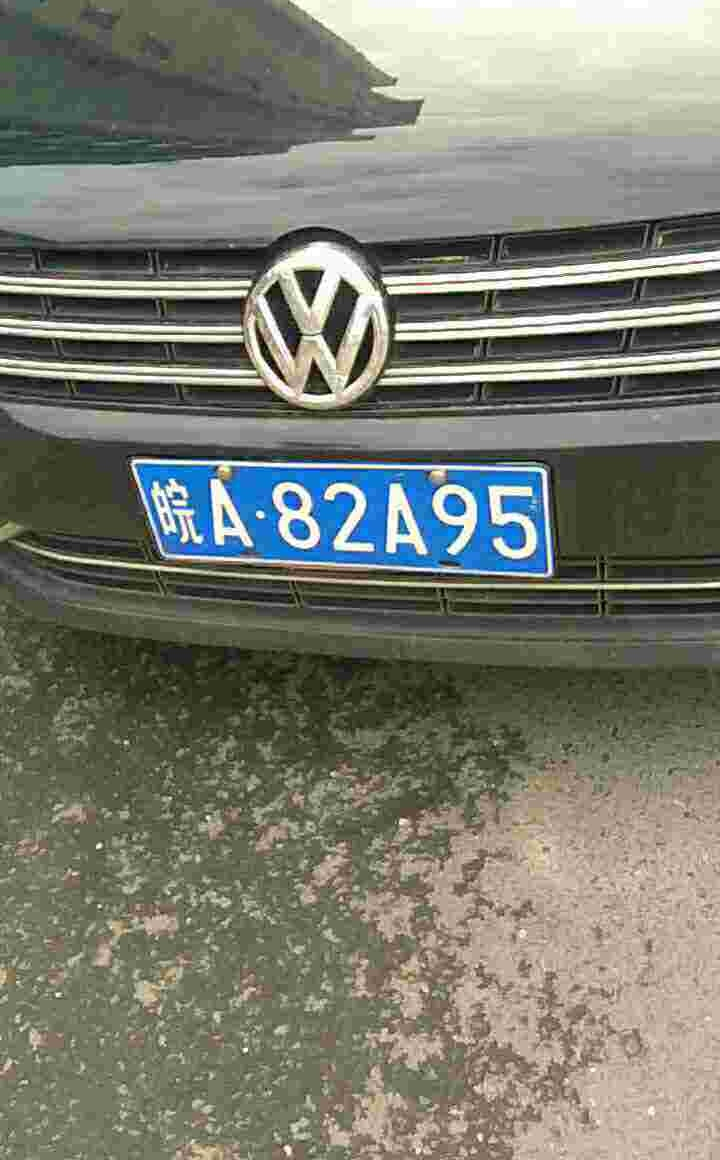car_blue: (128, 452, 556, 596)
